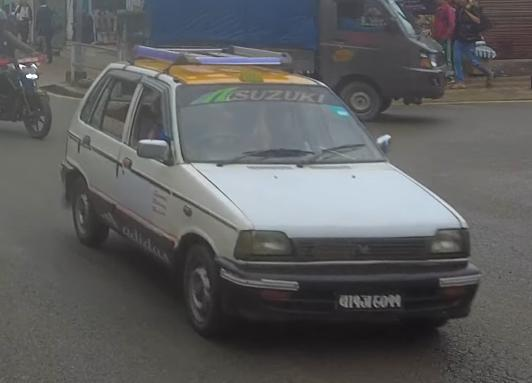bike: (0, 51, 53, 143)
taxi: (57, 42, 483, 344)
